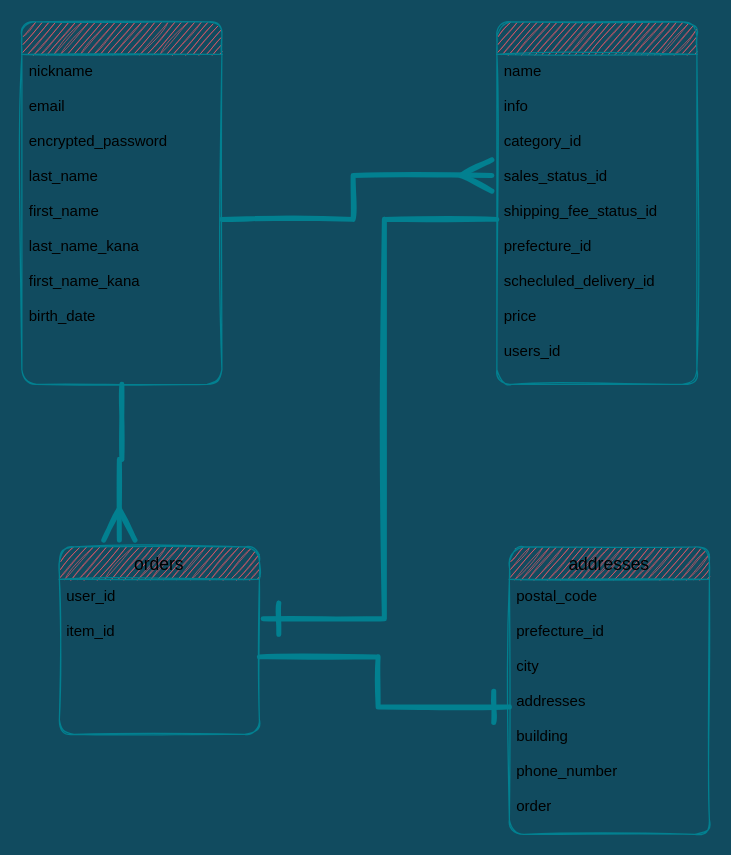
Some shapes in this 731 by 855 pixel diagram are drawn without their labels. The shapes that lost their labels are listed below. From the top down, each one's box as (x1, y1, x2, y2) in pixels, then its label:
(21, 21, 222, 384): users
(496, 21, 697, 384): items
